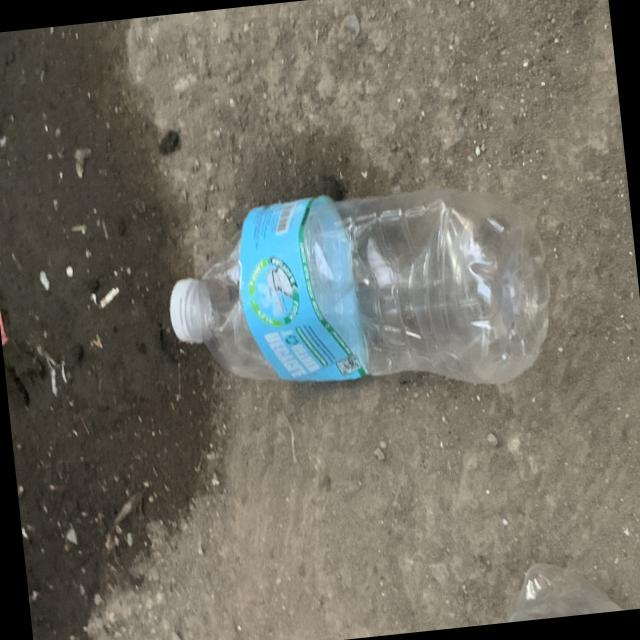Bottle: (169, 189, 549, 383)
